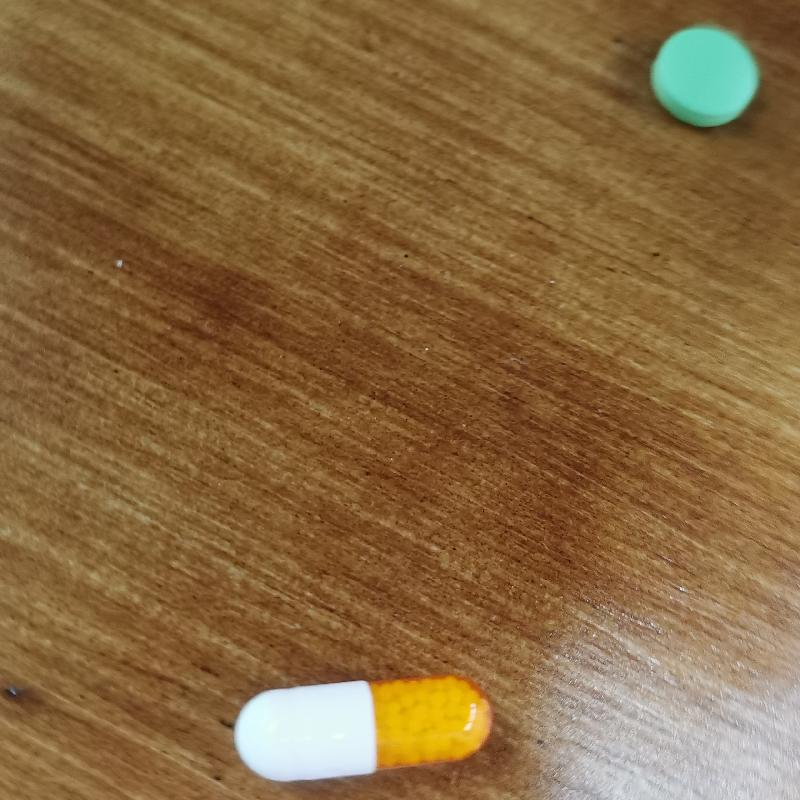pills: (226, 665, 516, 796), (641, 10, 766, 147)
